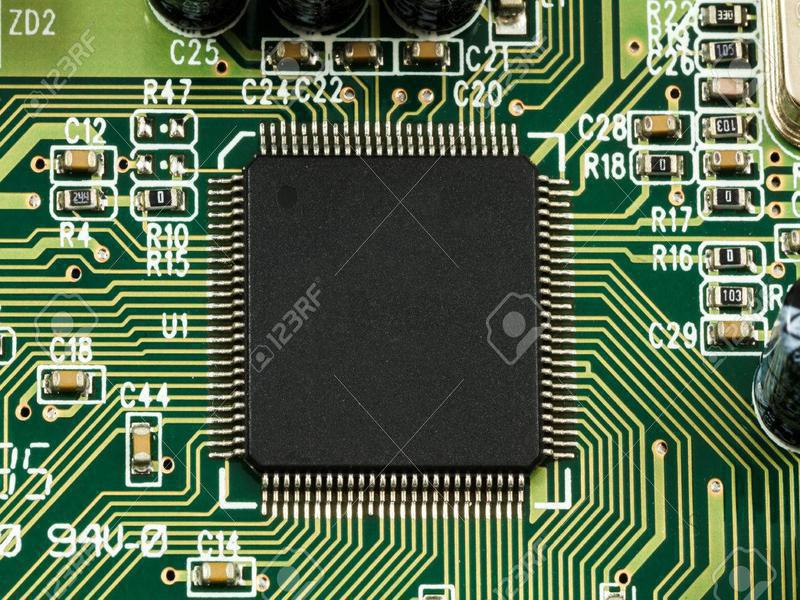SMD capacitor: (197, 559, 256, 595), (126, 416, 155, 478), (334, 37, 385, 71), (44, 366, 94, 398), (635, 108, 681, 140), (706, 148, 756, 176), (706, 321, 757, 348), (409, 40, 449, 72), (62, 151, 103, 180), (272, 38, 312, 67), (706, 77, 750, 101)
SMD resistor: (703, 244, 759, 276), (134, 186, 185, 214), (705, 110, 748, 142), (639, 151, 685, 180), (710, 282, 755, 311), (703, 184, 748, 213), (701, 1, 749, 28), (705, 33, 748, 63), (60, 187, 107, 210)
